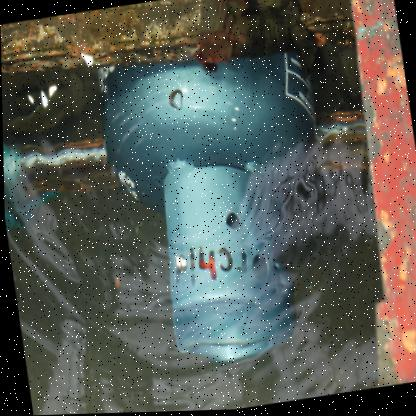bubble: (164, 88, 187, 115)
gas-tank: (79, 34, 361, 387)
